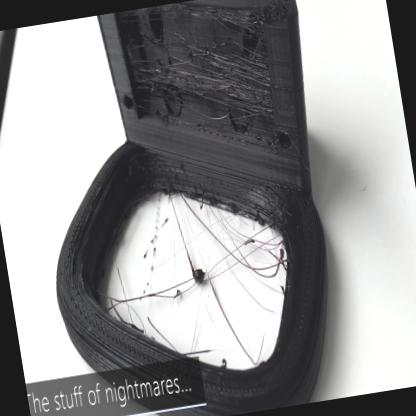fail: (122, 1, 280, 156), (166, 213, 287, 316)
